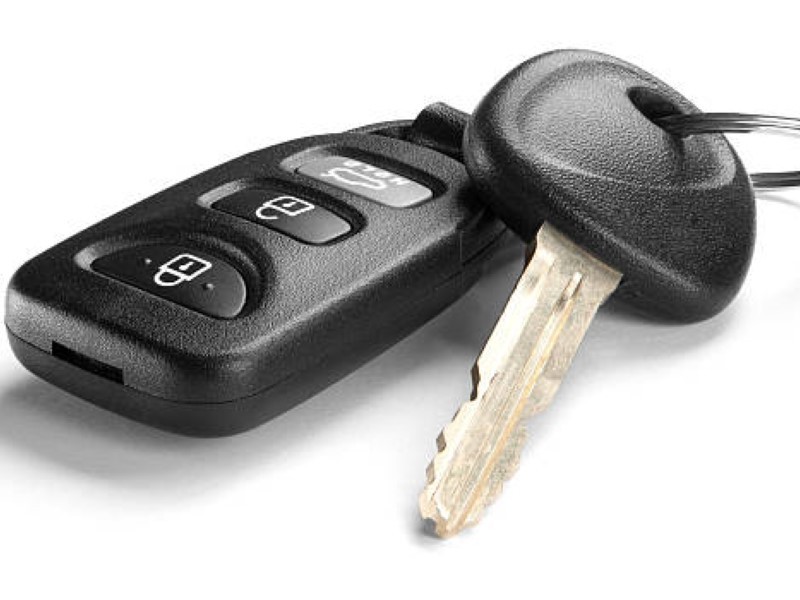carkey: (0, 98, 505, 444)
key: (394, 43, 765, 540)
